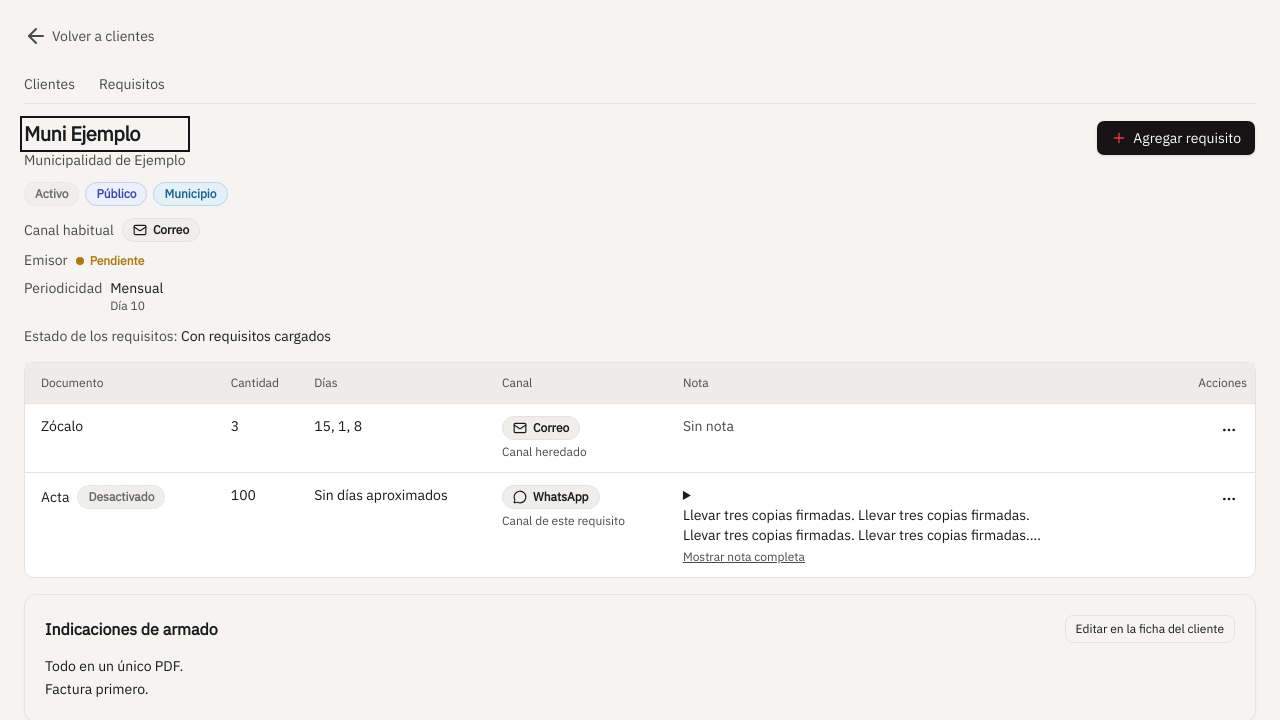
Test: MatrizPage: indicaciones de armado (HU2.4) › muestra el cuadro de indicaciones de armado al final y abre la edición al pulsar el botón
Check: the heading "Muni Ejemplo" is shown, box top-left (24, 120), bottom-right (140, 147)
Check: the heading "Indicaciones de armado" is shown, box top-left (45, 617), bottom-right (218, 641)
# Al hacer clic abre el panel lateral de edición
Click the button with aria-label "Editar en la ficha del cliente: indicaciones de armado": (1150, 629) top-left (1065, 615), bottom-right (1235, 643)
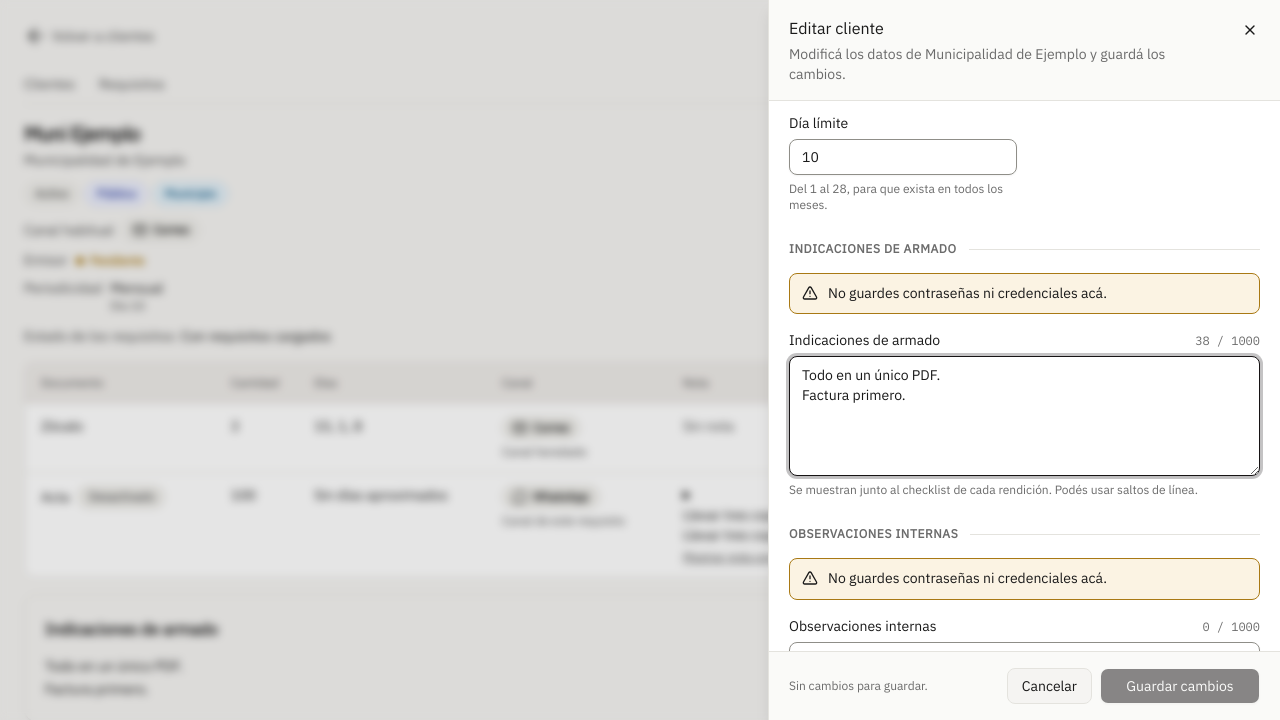
Check: the heading "Editar cliente" is shown, box top-left (789, 18), bottom-right (884, 38)
